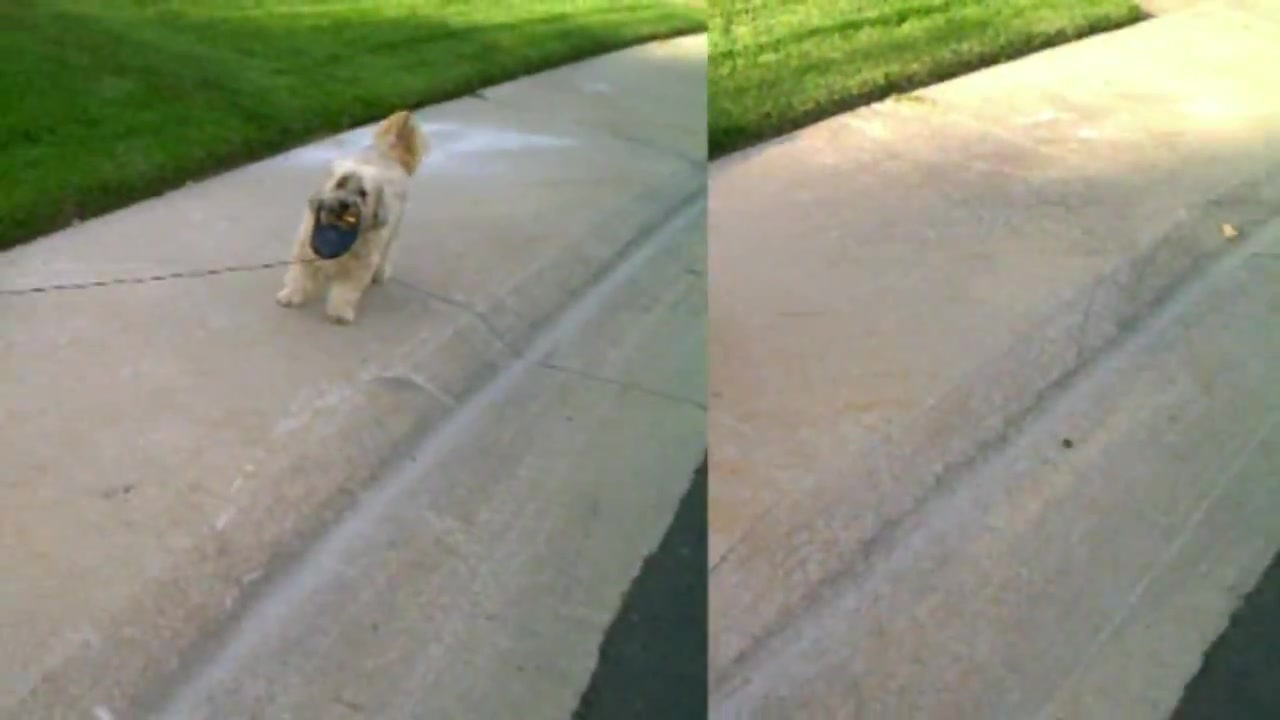dog: (275, 111, 432, 328)
